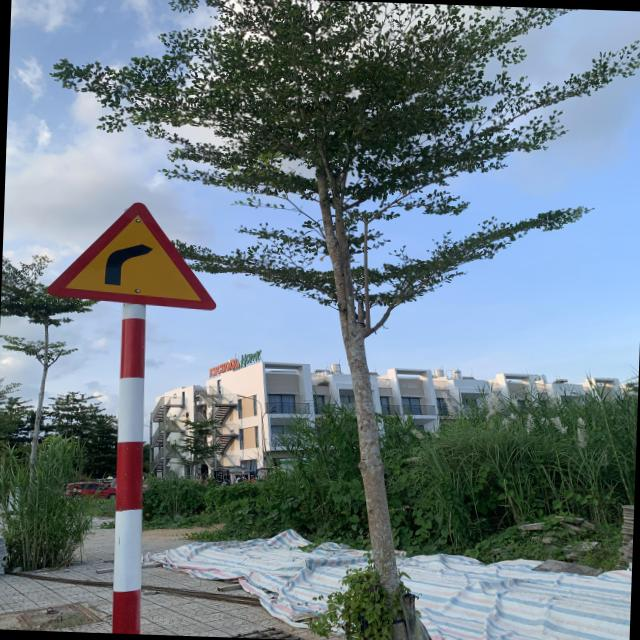Duong_Nguoi_Di_Bo_Cat_Ngang: (43, 195, 216, 308)
